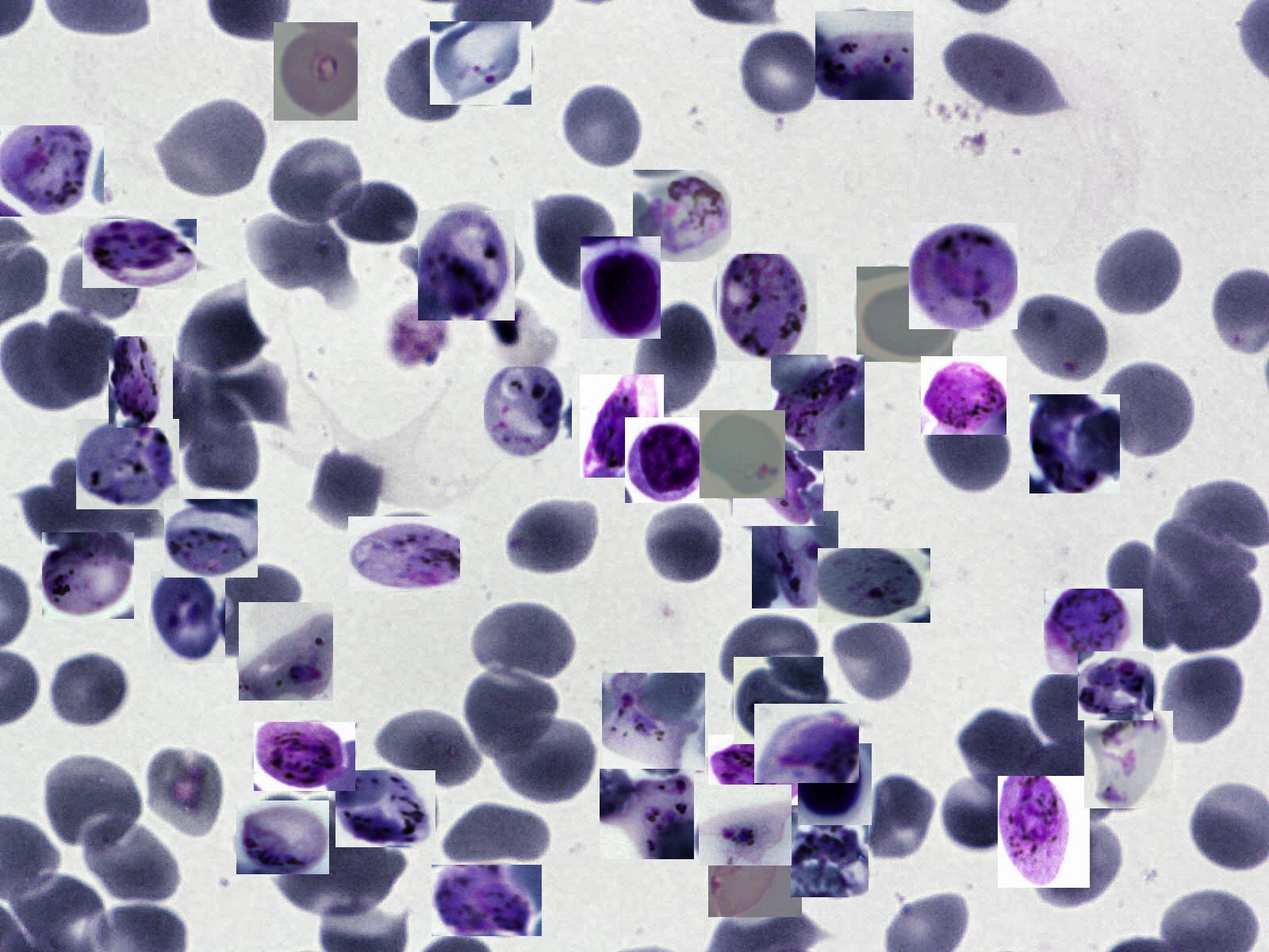Infected: (909, 223, 1018, 329), (418, 210, 515, 321), (717, 254, 817, 361), (998, 776, 1090, 888), (602, 673, 705, 770), (0, 125, 104, 217), (239, 602, 333, 701), (76, 419, 179, 509), (857, 267, 953, 362), (771, 355, 865, 451), (633, 170, 731, 262), (1029, 394, 1120, 493), (815, 11, 914, 100), (580, 374, 664, 478), (1084, 711, 1173, 808), (600, 769, 695, 859), (430, 21, 531, 105), (1044, 589, 1143, 674), (818, 548, 930, 623), (752, 511, 838, 608), (349, 516, 460, 591), (274, 22, 358, 121), (754, 704, 859, 783), (581, 236, 661, 339), (484, 367, 572, 459), (709, 831, 803, 917), (42, 532, 134, 619), (82, 219, 197, 288), (431, 865, 542, 936), (734, 657, 823, 744), (335, 770, 435, 847), (699, 785, 792, 866), (700, 410, 785, 498), (164, 499, 258, 578), (733, 444, 823, 526), (708, 735, 809, 805), (254, 722, 355, 791), (236, 800, 329, 874), (151, 571, 225, 663), (625, 417, 704, 503), (921, 356, 1006, 435), (791, 812, 868, 897), (798, 743, 872, 825), (109, 336, 173, 428), (1078, 651, 1153, 720)
Uninfected: (289, 814, 405, 923), (160, 91, 268, 199), (937, 30, 1062, 121), (1007, 286, 1114, 385), (246, 209, 357, 304), (42, 754, 147, 851), (1101, 360, 1197, 466), (49, 459, 165, 540), (529, 188, 619, 292), (634, 304, 719, 413), (0, 324, 105, 412), (194, 566, 300, 653), (379, 700, 485, 787), (474, 599, 578, 687), (270, 132, 364, 228), (1095, 224, 1185, 320), (492, 720, 596, 803), (951, 702, 1050, 789), (737, 29, 828, 123), (468, 667, 560, 758), (499, 499, 604, 578), (924, 405, 1015, 496), (385, 36, 475, 128), (90, 817, 182, 907), (182, 396, 263, 497), (1166, 562, 1259, 649), (639, 500, 729, 589), (559, 83, 646, 174), (1106, 534, 1175, 647), (22, 486, 136, 554), (140, 747, 225, 838), (1030, 667, 1124, 748), (326, 179, 426, 252), (1035, 822, 1120, 907), (1161, 652, 1244, 739), (205, 359, 297, 436), (722, 616, 819, 687), (448, 804, 554, 868), (48, 651, 131, 731), (943, 770, 1026, 849), (832, 622, 912, 700), (40, 312, 116, 393), (865, 774, 936, 858), (62, 245, 141, 320), (313, 447, 383, 530), (184, 295, 266, 365)
